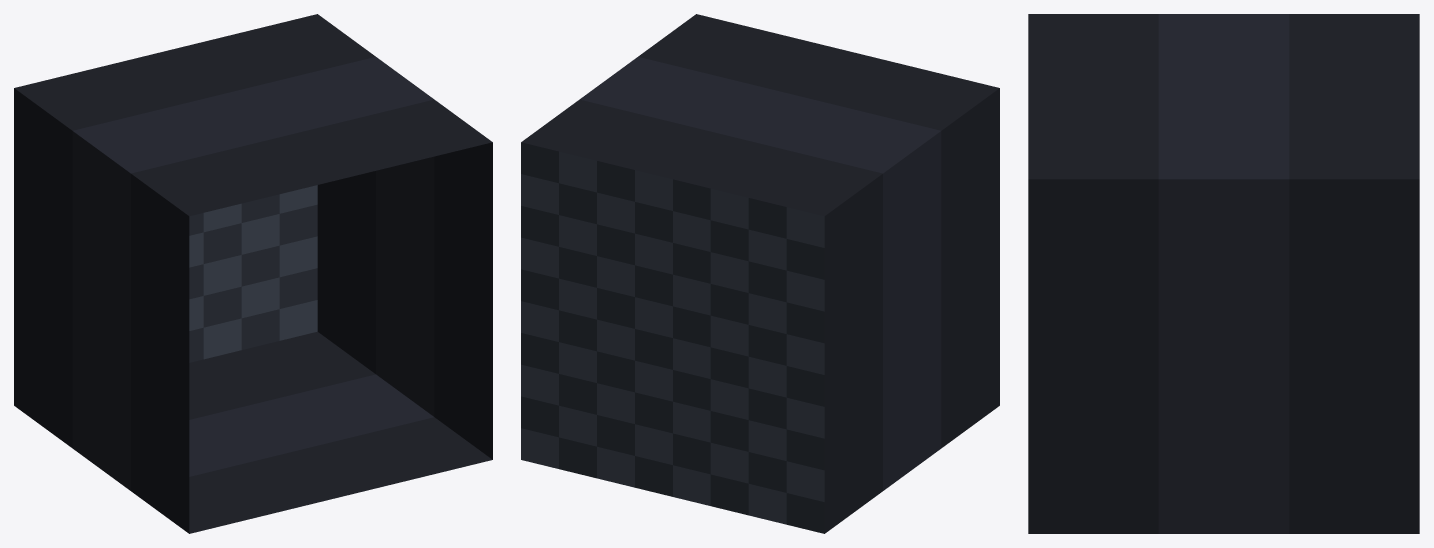
File: tank.obj
The picture shows the model from 3 angles, left to right: view 1: azimuth 30°, elevation 25°; view 2: azimuth 150°, elevation 25°; view 3: azimuth 270°, elevation 25°; orthographic projection. The views are drawn at different scales.
Bounding box in the file's own units: 1 × 1 × 1.
